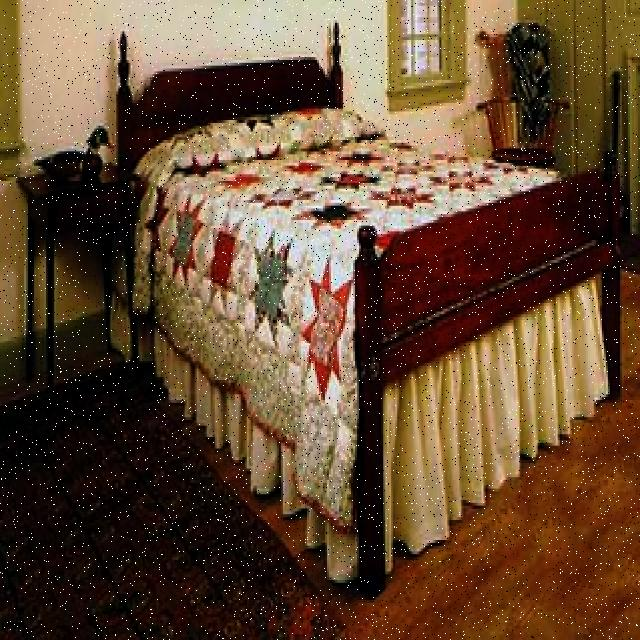bed: (118, 28, 626, 514)
